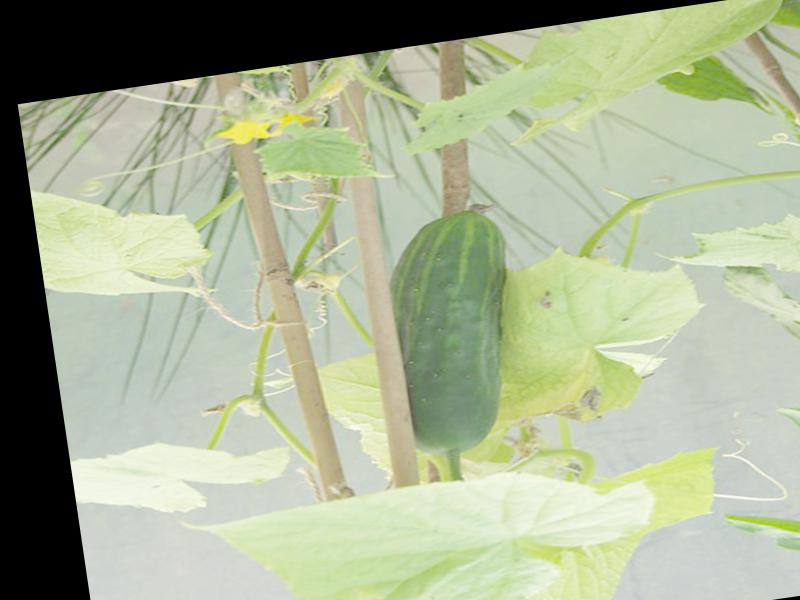Cucumber: (379, 201, 536, 459)
